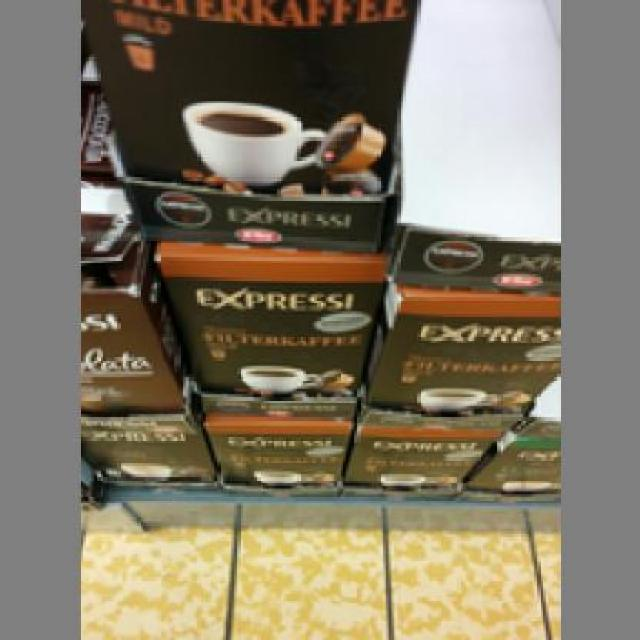Coffee: (74, 0, 417, 189), (148, 237, 384, 403), (357, 280, 554, 414)
